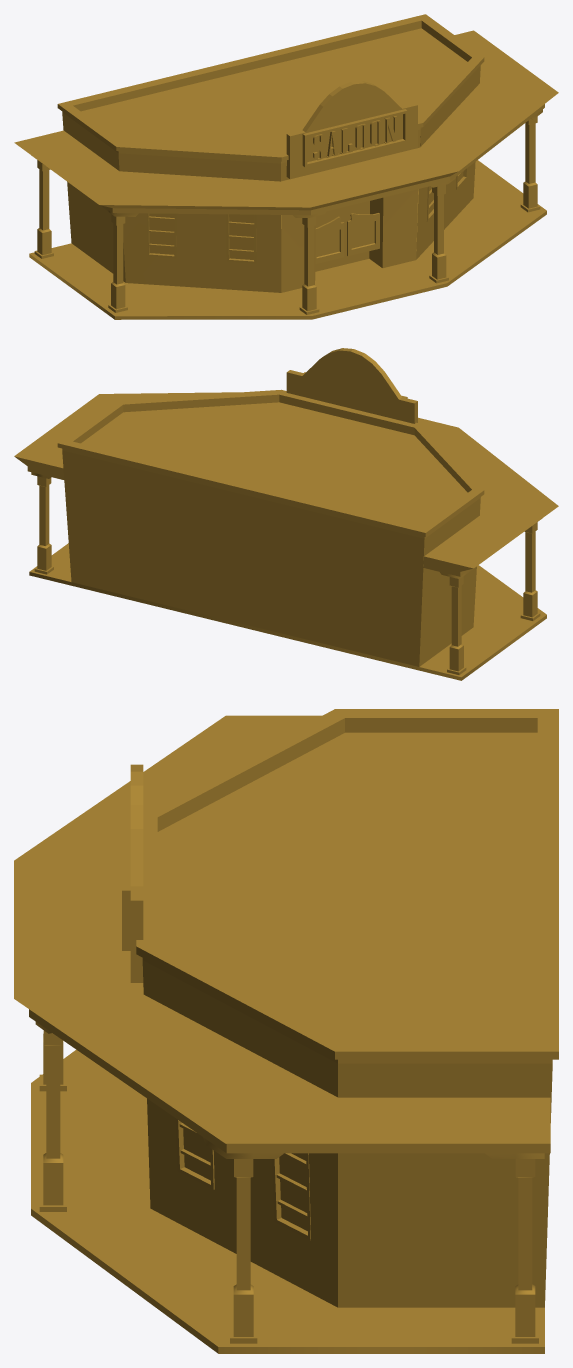
File: S_saloon.fbx
The picture shows the model from 3 angles, top to bottom: view 1: azimuth 30°, elevation 25°; view 2: azimuth 150°, elevation 25°; view 3: azimuth 270°, elevation 25°; orthographic projection. The views are drawn at different scales.
Parts seen in each view (by area): view 1: polySurface33, pCube17, pCube16, polySurface105, polySurface91, pCylinder11, polySurface111, pCube18, polySurface37, polySurface39, polySurface92, typeMesh2 (+1 smaller); view 2: polySurface105, polySurface33, pCube17, pCube16, pCylinder11, polySurface38, polySurface39; view 3: polySurface33, pCube17, polySurface105, pCube16, polySurface111, polySurface39, polySurface38, polySurface37, pCylinder11, pCube18.
Boxes of the visible parts, x1,y1,x2,y2 form: polySurface33: [57, 14, 484, 163]; pCube17: [14, 30, 558, 215]; pCube16: [29, 160, 546, 319]; polySurface105: [62, 66, 480, 292]; polySurface91: [281, 129, 420, 292]; pCylinder11: [286, 81, 417, 179]; polySurface111: [147, 168, 467, 263]; pCube18: [302, 109, 407, 167]; polySurface37: [293, 177, 455, 314]; polySurface39: [101, 109, 542, 312]; polySurface92: [315, 213, 379, 264]; typeMesh2: [313, 116, 397, 160]; polySurface105: [62, 450, 480, 666]; polySurface33: [57, 389, 484, 538]; pCube17: [14, 392, 558, 576]; pCube16: [29, 543, 546, 680]; pCylinder11: [286, 348, 417, 423]; polySurface38: [31, 472, 472, 674]; polySurface39: [520, 520, 540, 620]; polySurface33: [136, 709, 558, 1063]; pCube17: [14, 715, 550, 1153]; polySurface105: [142, 960, 552, 1307]; pCube16: [31, 1049, 544, 1353]; polySurface111: [175, 1118, 310, 1240]; polySurface39: [203, 1137, 283, 1343]; polySurface38: [485, 1153, 544, 1343]; polySurface37: [35, 1022, 66, 1211]; pCylinder11: [130, 764, 143, 982]; pCube18: [122, 795, 130, 950].
Bounding box in the file's own units: 1440 × 598 × 775.
